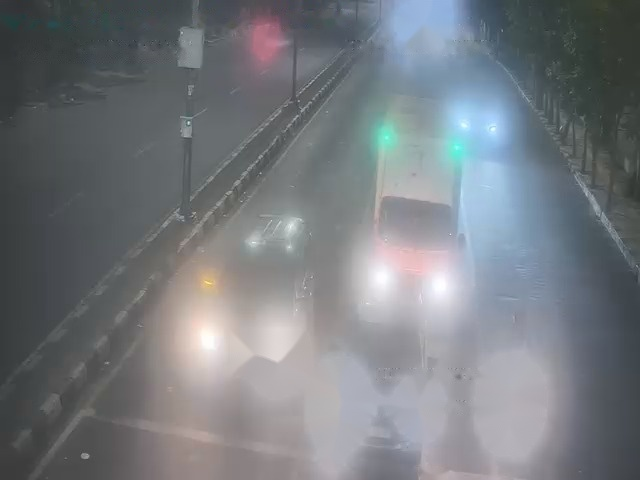Mobil: (195, 197, 317, 388), (332, 302, 428, 450), (452, 81, 502, 153)
Truk: (373, 72, 462, 306)
